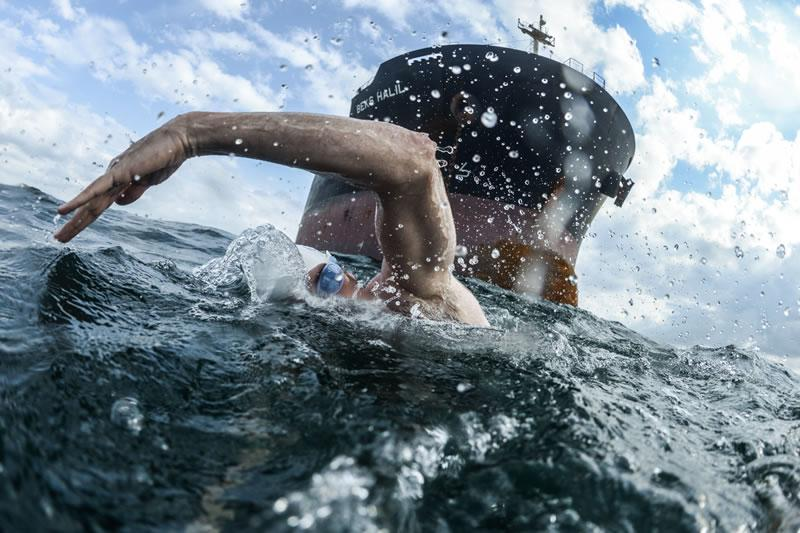swimmer: (46, 108, 490, 332)
